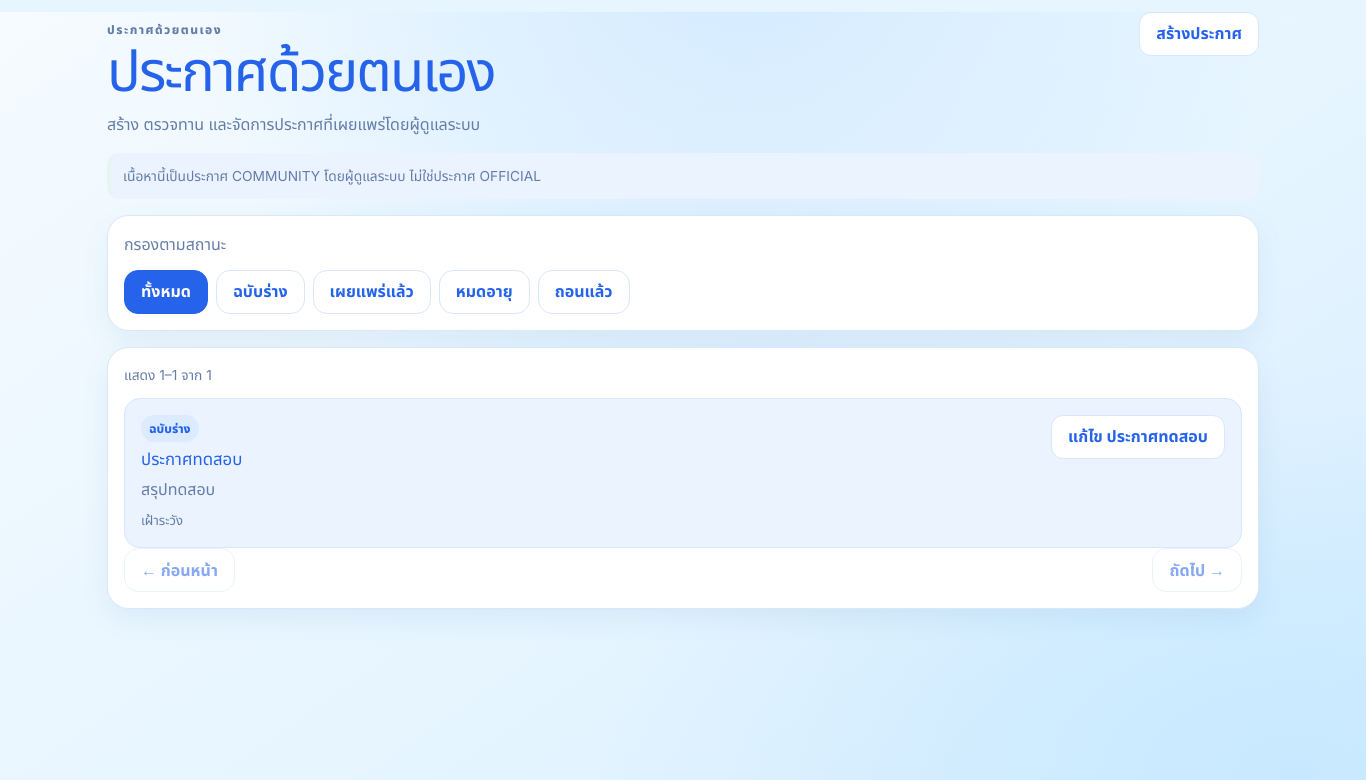
AdminAnnouncementsPage › shows a retryable error when the admin detail request stalls
The width and height of the screenshot is (1366, 780).
What coordinates should you click on to do the following:
click the button "แก้ไข ประกาศทดสอบ"
I would click on:
 (1138, 437)
Its box is [1051, 415, 1225, 459].
Wait 10001 ms
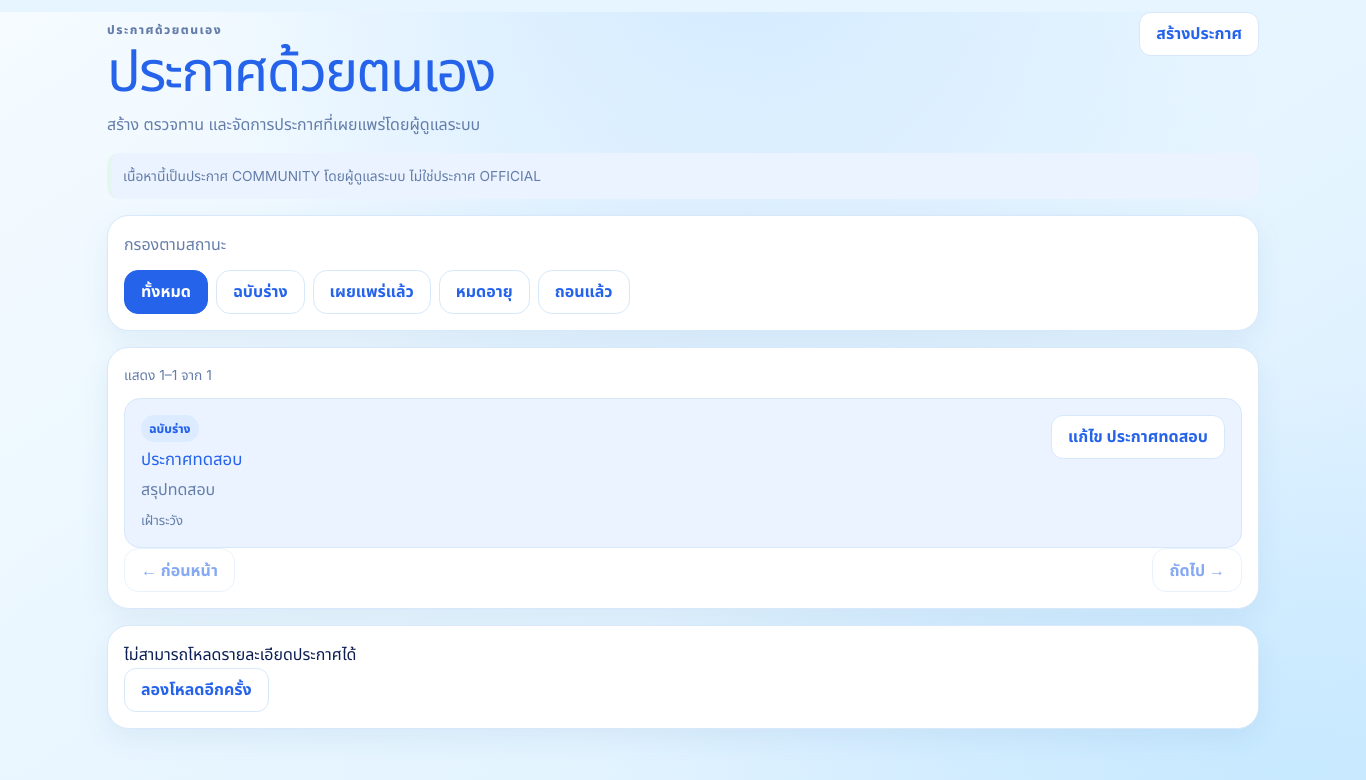
Check: the message shows "ไม่สามารถโหลดรายละเอียดประกาศได้", box [124, 644, 356, 664]
Check: the button "ลองโหลดอีกครั้ง" is shown, box [124, 668, 269, 712]
